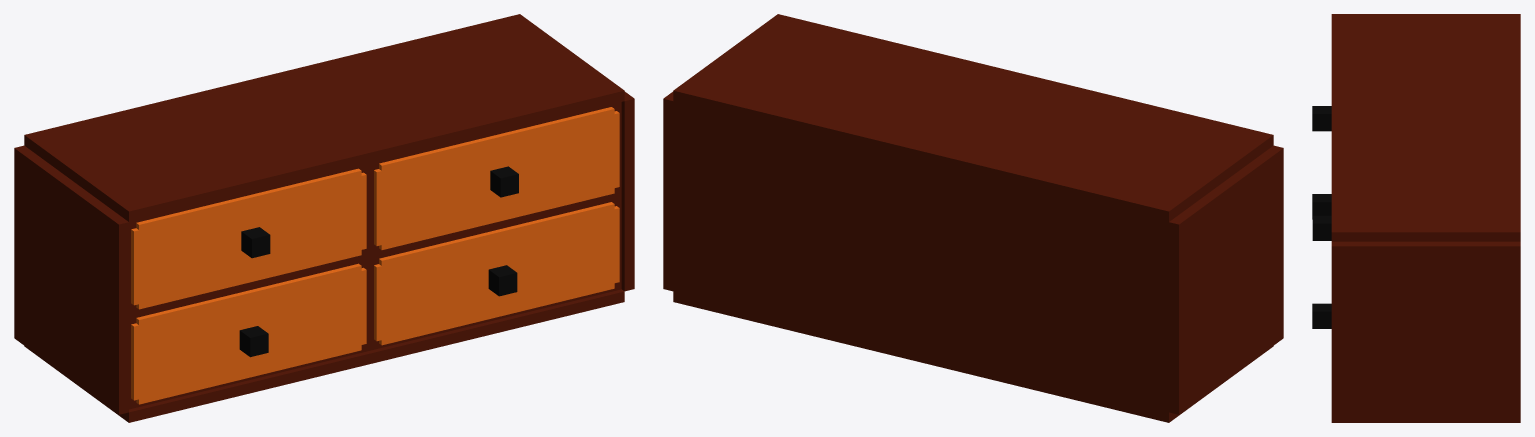
The model's file is TV cabinet.fbx.
3 renders of one model, left to right at view 1: azimuth 30°, elevation 25°; view 2: azimuth 150°, elevation 25°; view 3: azimuth 270°, elevation 25°, orthographic. The views are drawn at different scales.
Visible parts, largest first — view 1: TV cabinet; view 2: TV cabinet; view 3: TV cabinet.
Part boxes in pixels (bbox=[...]): TV cabinet: bbox=[14, 14, 634, 422]; TV cabinet: bbox=[663, 14, 1283, 422]; TV cabinet: bbox=[1312, 14, 1520, 422].
Bounding box in the file's own units: 1.14 × 0.4452 × 0.4402.
